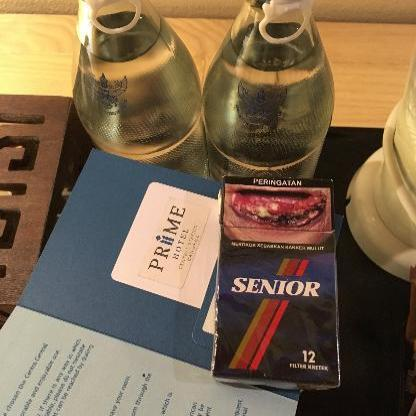objects: (212, 177, 341, 390)
